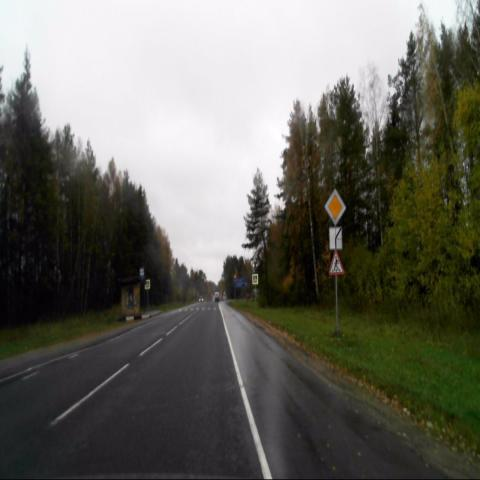1_22: (328, 250, 344, 277)
